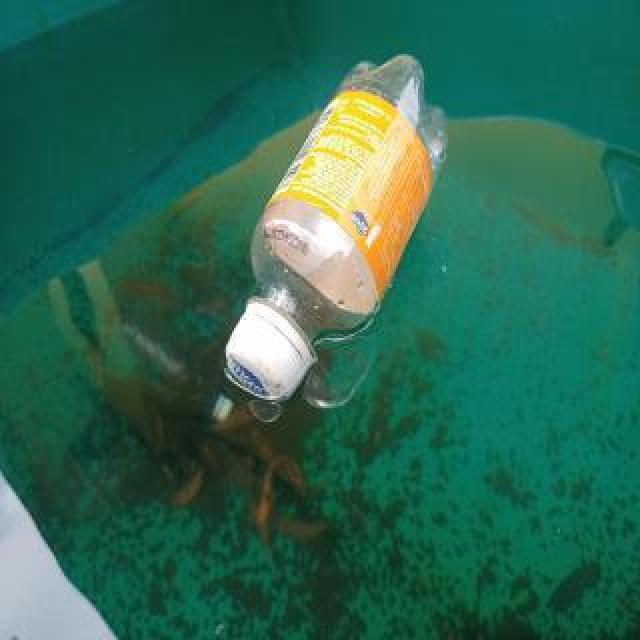bottle: (223, 54, 449, 406)
